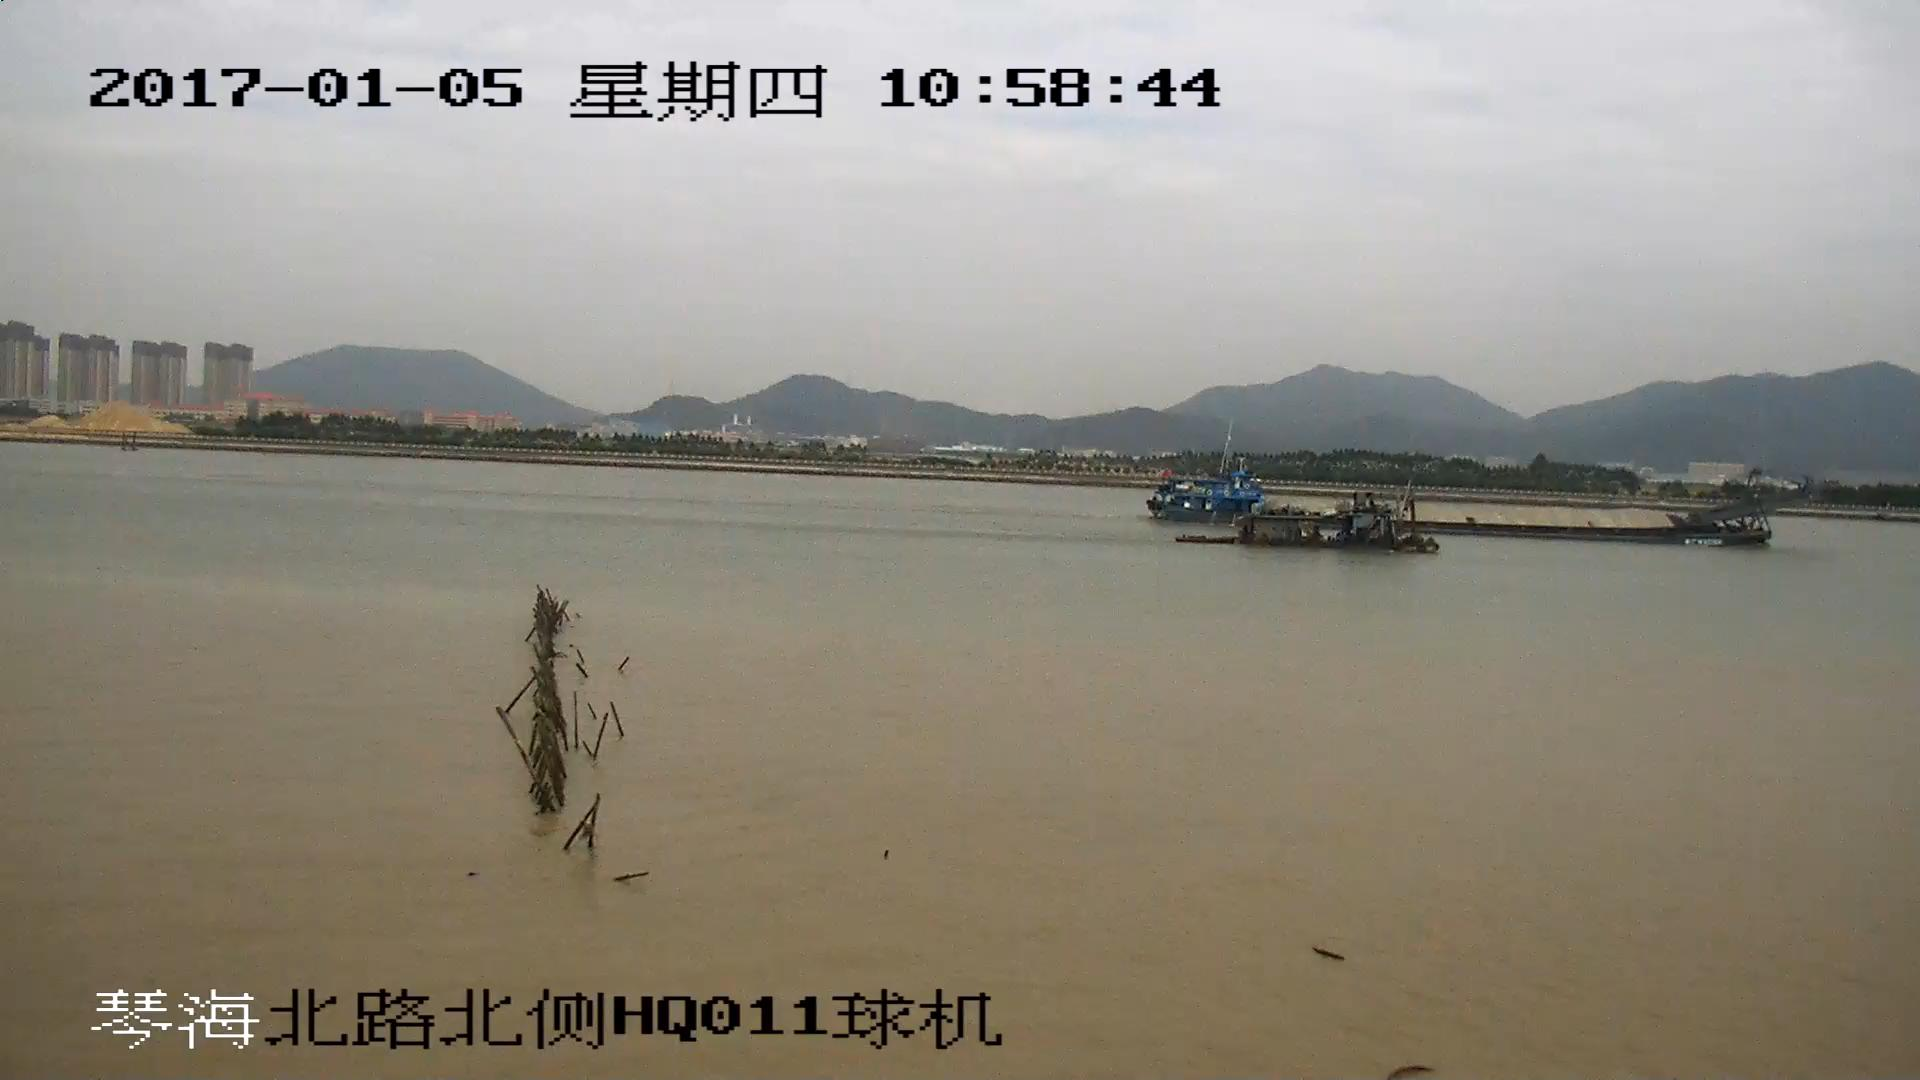ore carrier: (1160, 458, 1776, 558)
